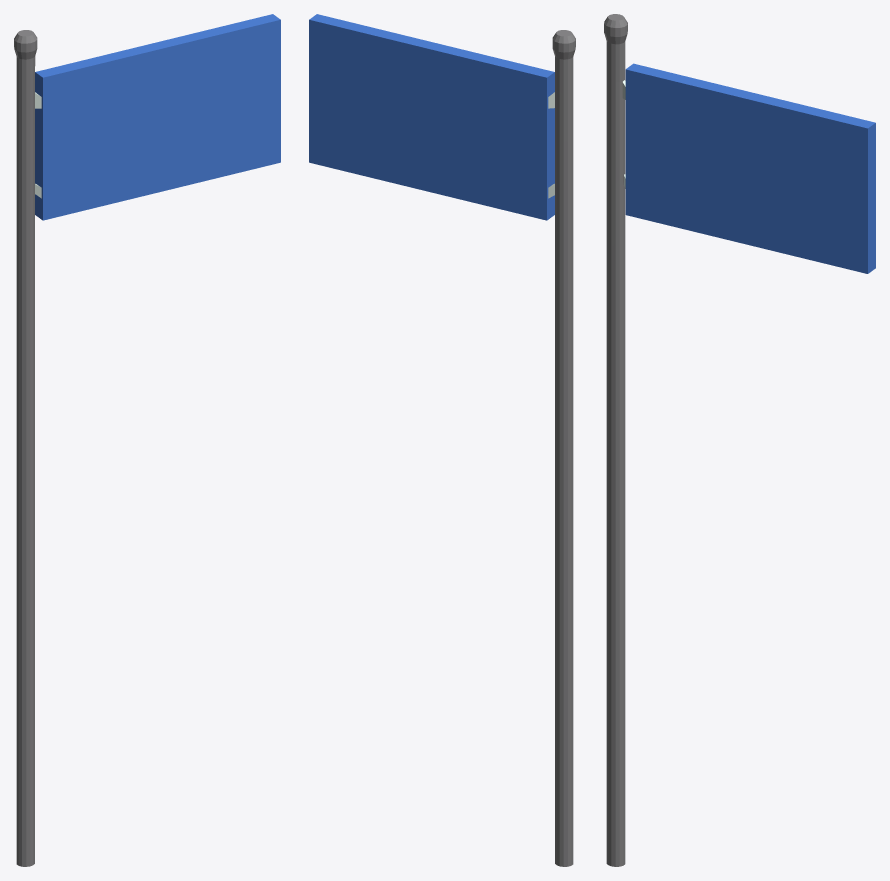
Rendered from flagpole10.fbx.
The picture shows the model from 3 angles, left to right: view 1: azimuth 30°, elevation 25°; view 2: azimuth 150°, elevation 25°; view 3: azimuth 330°, elevation 25°; orthographic projection.
Parts seen in each view (by area): view 1: Cube.003_Cube.003, Cube.002_Cube.002; view 2: Cube.003_Cube.003, Cube.002_Cube.002; view 3: Cube.003_Cube.003, Cube.002_Cube.002.
Part boxes in pixels (left/top/right/bottom): Cube.003_Cube.003: left=35, top=14, right=280, bottom=220; Cube.002_Cube.002: left=14, top=30, right=37, bottom=866; Cube.003_Cube.003: left=309, top=14, right=554, bottom=220; Cube.002_Cube.002: left=552, top=30, right=575, bottom=866; Cube.003_Cube.003: left=625, top=63, right=875, bottom=273; Cube.002_Cube.002: left=604, top=14, right=627, bottom=866.
Size of the model in its own units: 72010 by 218572 by 5354.
